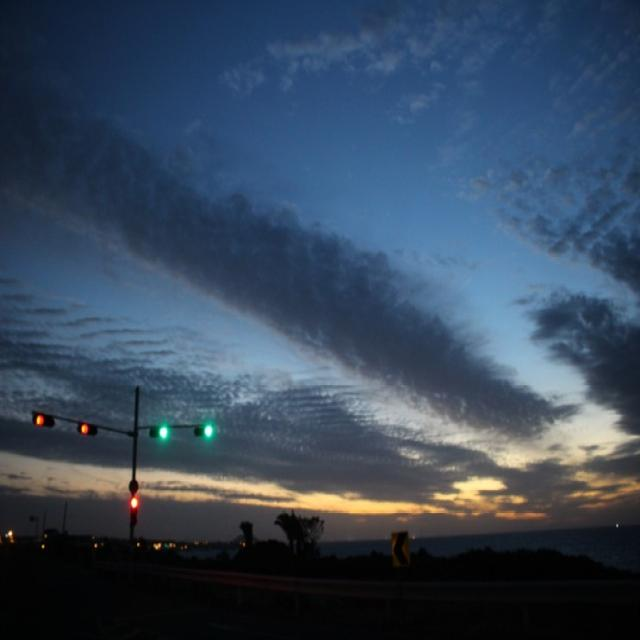Green Light: (204, 424, 213, 438), (160, 427, 168, 439)
Red Light: (34, 412, 45, 428), (130, 497, 139, 510), (80, 422, 88, 436)
